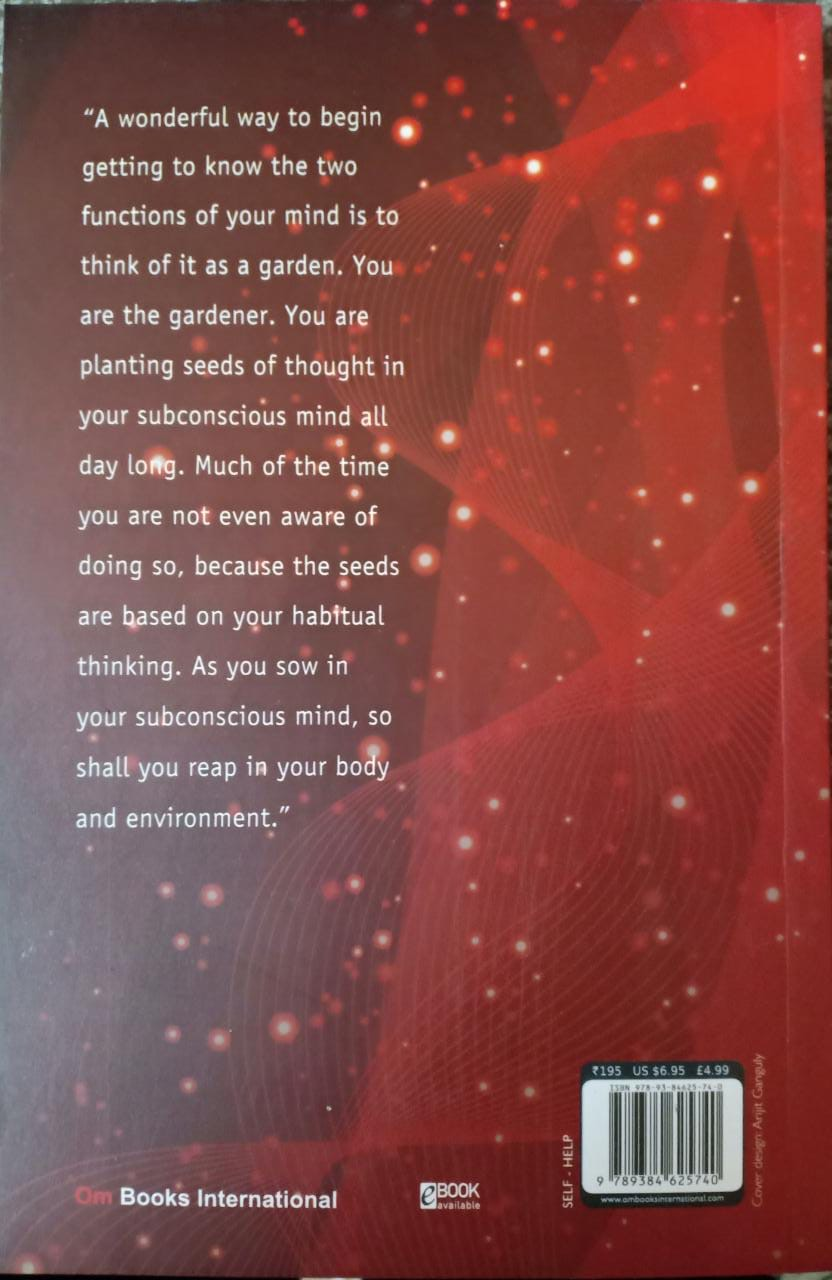barcode: (591, 1085, 741, 1187)
